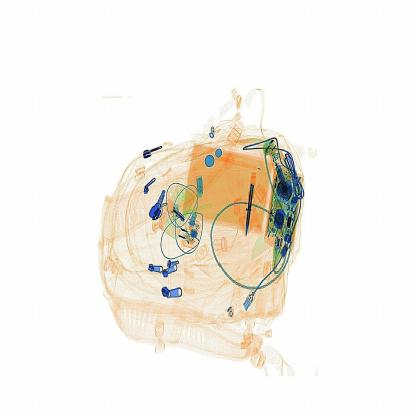gun: (240, 162, 263, 243)
